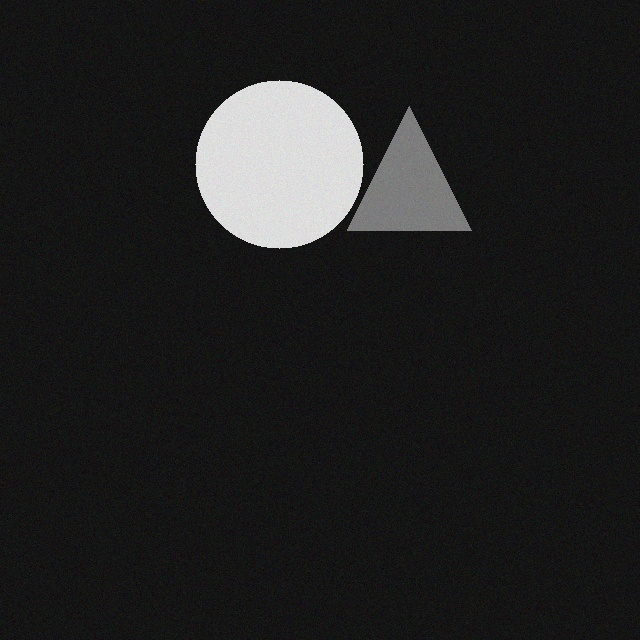circle: (191, 90, 359, 258)
triangle: (343, 116, 467, 240)
